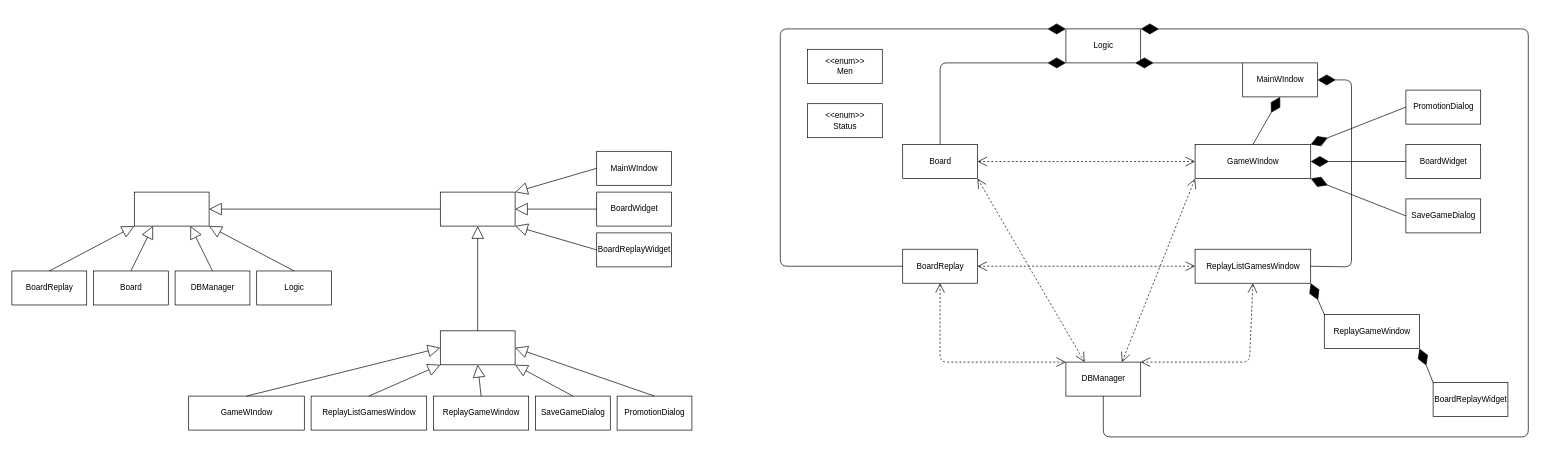
Image size: 1558x466. Some labels were removed from this diagram. The centre of each missing label's shape, as x and y in pixels:
"QDialog" belongs at [477,347].
"QObject" belongs at [171,208].
"QWidget" belongs at [477,208].
